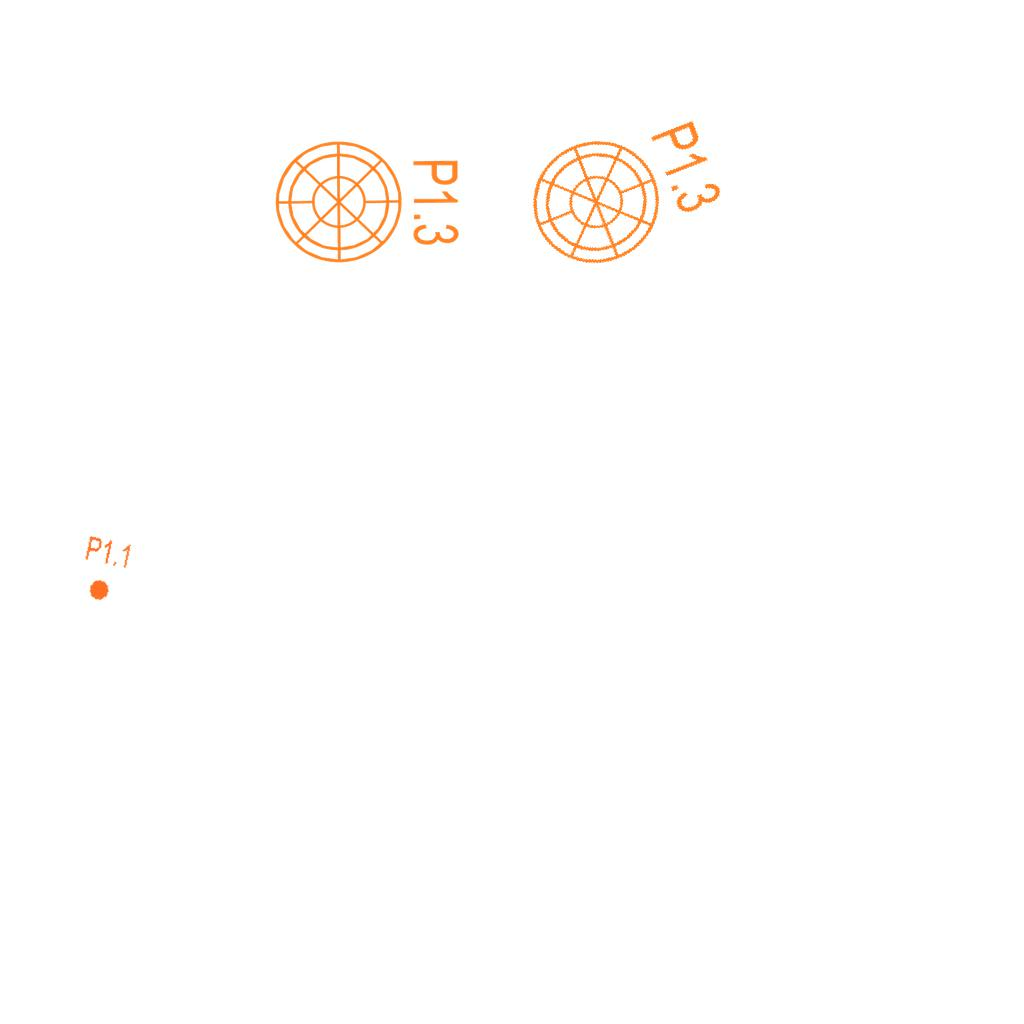Aufbaurundleuchte_LED_Treppenhaus: (510, 92, 753, 297), (272, 138, 477, 277)
Downlight_LED_Einbauleuchten_Flur_2: (75, 533, 135, 607)
